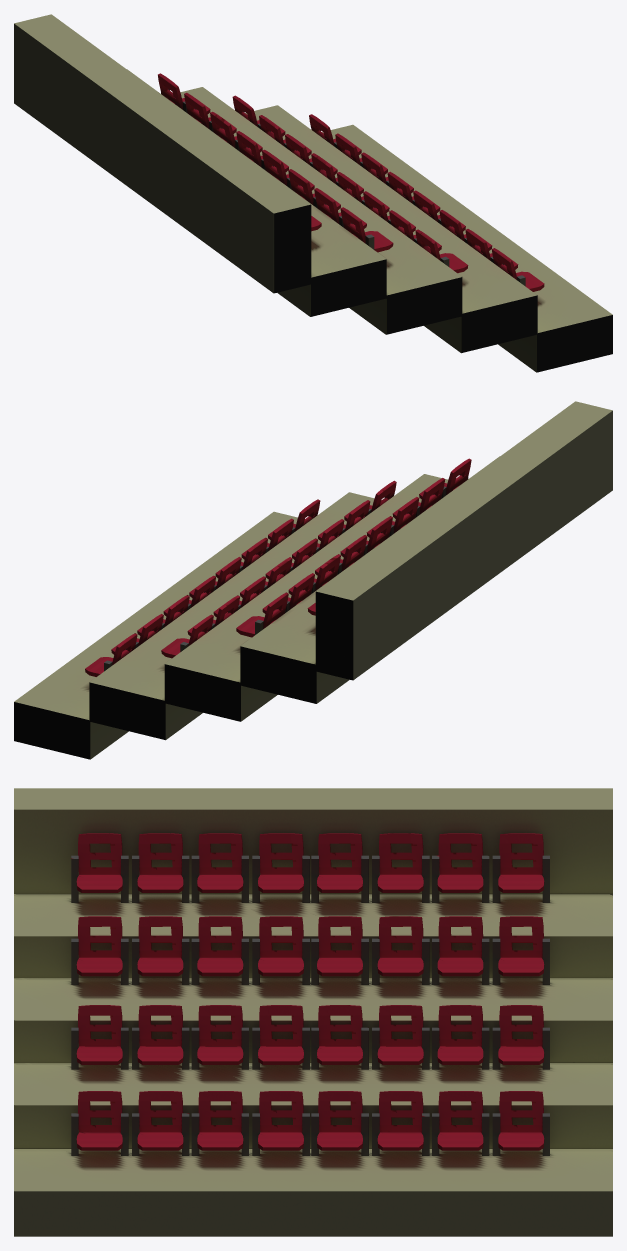
Rendered from edge.dae.
3 renders of one model, top to bottom at view 1: azimuth 30°, elevation 25°; view 2: azimuth 150°, elevation 25°; view 3: azimuth 270°, elevation 25°, orthographic. The views are drawn at different scales.
Visible parts, largest first — view 1: straight_007; view 2: straight_007; view 3: straight_007.
Boxes of the visible parts, left/top/right/bottom form: straight_007: left=14, top=14, right=612, bottom=372; straight_007: left=14, top=401, right=612, bottom=759; straight_007: left=14, top=788, right=612, bottom=1236.
Size of the model in its own units: 18.09 by 24 by 11.37.
Materials: 1 (1 with a texture image).
